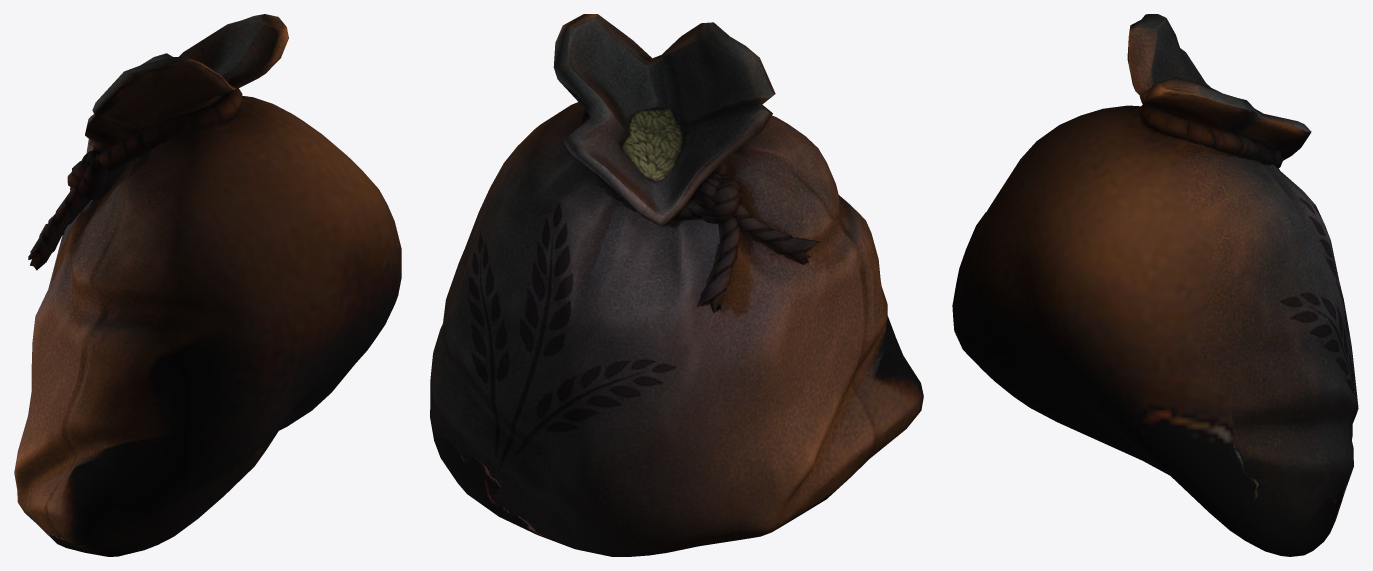
Rendered from _bag.fbx.
3 renders of one model, left to right at view 1: azimuth 30°, elevation 25°; view 2: azimuth 150°, elevation 25°; view 3: azimuth 270°, elevation 25°, orthographic. The views are drawn at different scales.
Visible parts, largest first — view 1: models/ui/muerta_ofrenda/muerta_ofrenda_sack.vmdl_c.sack_a; view 2: models/ui/muerta_ofrenda/muerta_ofrenda_sack.vmdl_c.sack_a; view 3: models/ui/muerta_ofrenda/muerta_ofrenda_sack.vmdl_c.sack_a.
Part boxes in pixels (x1=…): models/ui/muerta_ofrenda/muerta_ofrenda_sack.vmdl_c.sack_a: x1=14, y1=14, x2=401, y2=556; models/ui/muerta_ofrenda/muerta_ofrenda_sack.vmdl_c.sack_a: x1=430, y1=14, x2=923, y2=556; models/ui/muerta_ofrenda/muerta_ofrenda_sack.vmdl_c.sack_a: x1=952, y1=14, x2=1358, y2=556.
Size of the model in its own units: 2.67 by 3.22 by 2.44.
